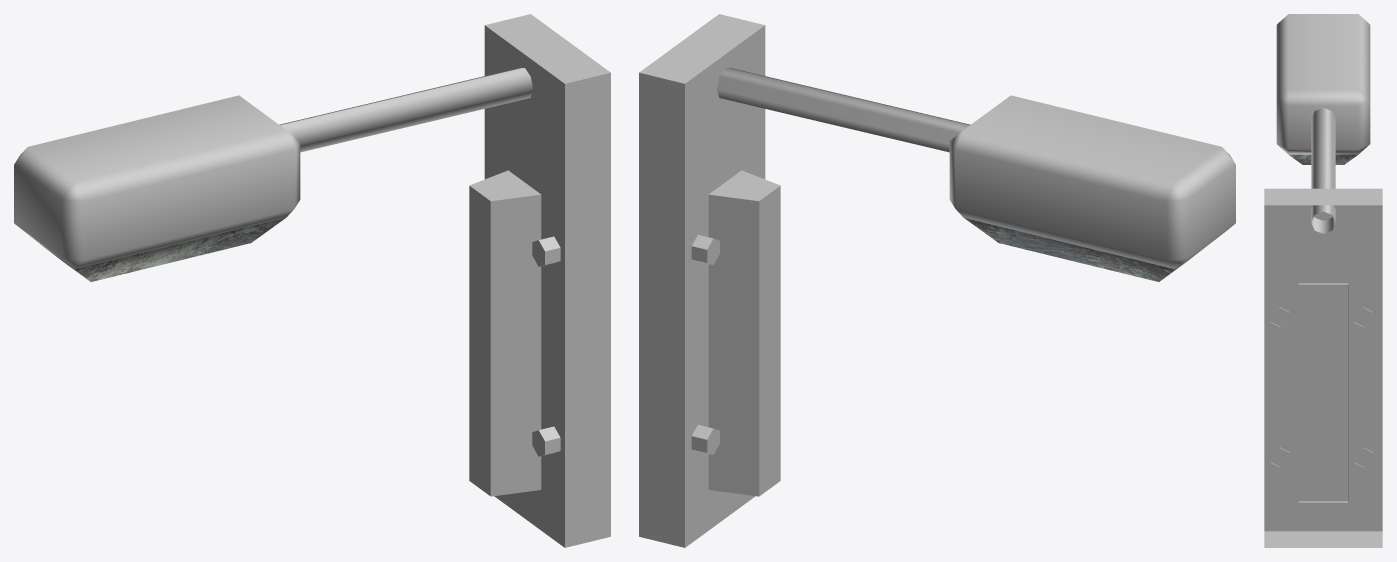
The model's file is wall_lamp02.fbx.
3 renders of one model, left to right at view 1: azimuth 30°, elevation 25°; view 2: azimuth 150°, elevation 25°; view 3: azimuth 270°, elevation 25°, orthographic. The views are drawn at different scales.
Visible parts, largest first — view 1: wall_lamp02; view 2: wall_lamp02; view 3: wall_lamp02.
Part boxes in pixels (x1,y1,x2,y2): wall_lamp02: (14, 14, 610, 547); wall_lamp02: (639, 14, 1235, 547); wall_lamp02: (1264, 14, 1382, 547).
Bounding box in the file's own units: 1.25 × 1.05 × 0.3261.
